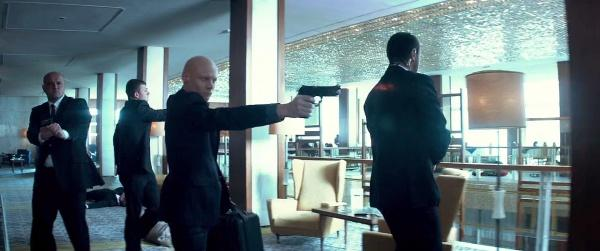Gun: (297, 82, 341, 100)
